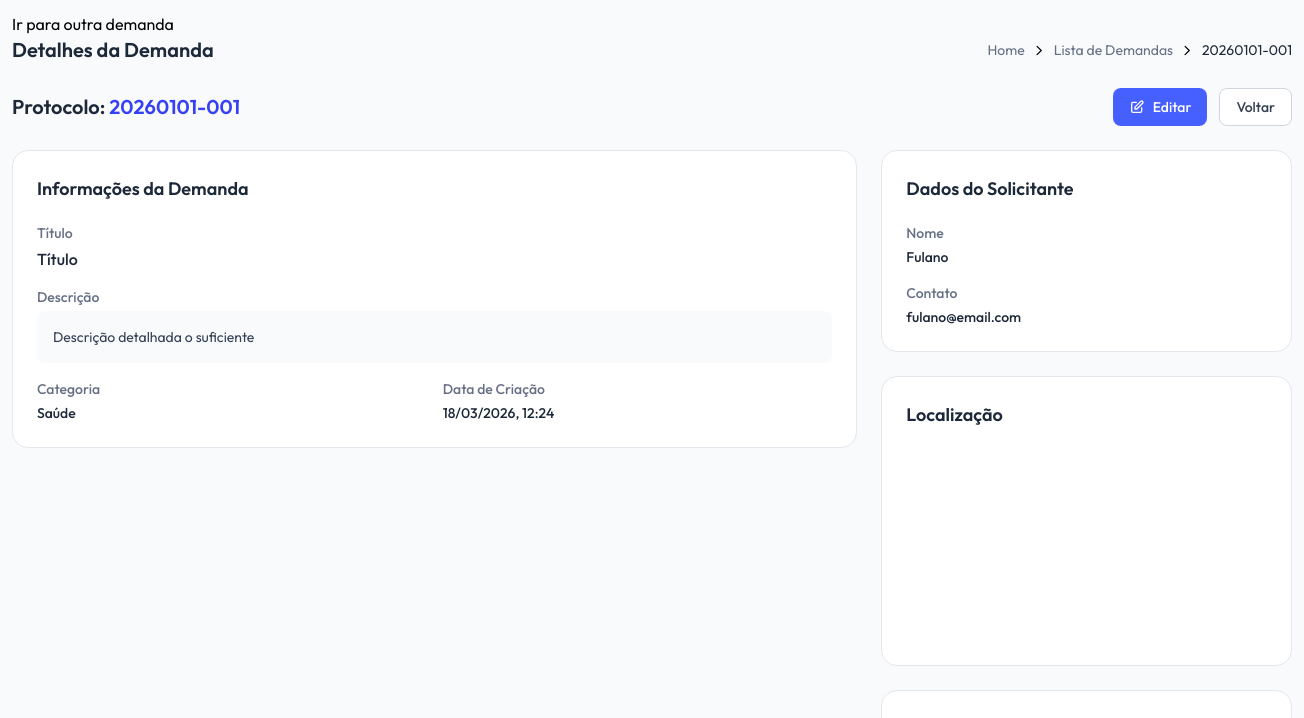
Scenario: DemandDetails breadcrumb › atualiza o protocolo no breadcrumb ao navegar entre demandas
Expected: the navigation bar is shown, 987,40 -> 1292,60
Expected: the text "20260101-001" next to "Lista de Demandas" is shown, 1202,41 -> 1292,59
Click the link "Ir para outra demanda" at {"x": 93, "y": 24}, box 12,14 -> 174,34
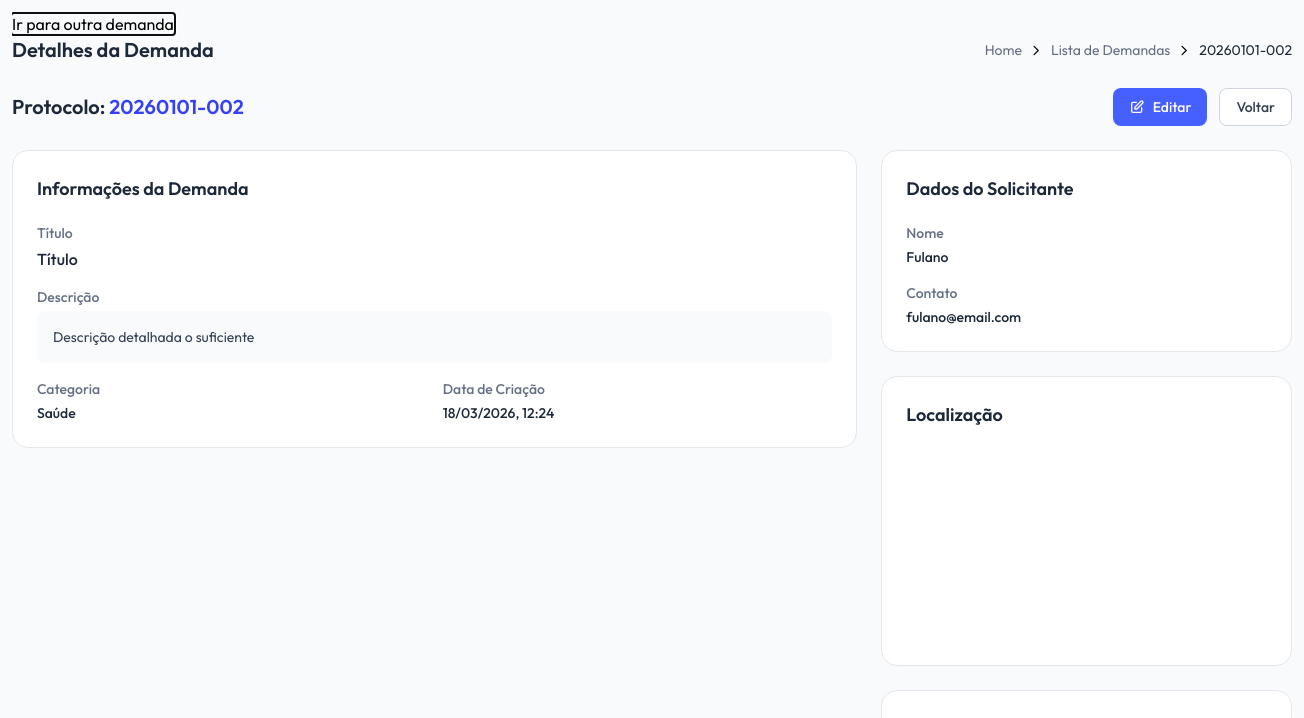
Expected: the navigation bar is shown, 985,40 -> 1292,60
Expected: the text "20260101-002" next to "Lista de Demandas" is shown, 1199,41 -> 1292,59
